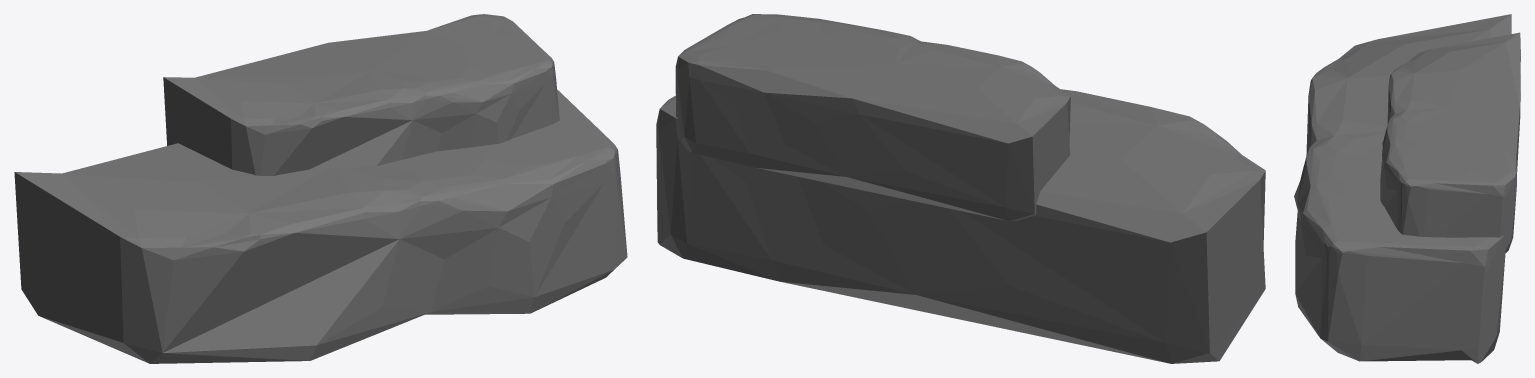
The model's file is Rock_002.fbx.
The picture shows the model from 3 angles, left to right: view 1: azimuth 30°, elevation 25°; view 2: azimuth 150°, elevation 25°; view 3: azimuth 270°, elevation 25°; orthographic projection. The views are drawn at different scales.
Visible parts, largest first — view 1: Rock_002; view 2: Rock_002; view 3: Rock_002.
Part boxes in pixels (<box>): Rock_002: <box>14,14,627,363</box>; Rock_002: <box>656,14,1265,363</box>; Rock_002: <box>1294,14,1520,363</box>.
Bounding box in the file's own units: 858 × 374 × 323.
Materials: 1 (1 with a texture image).
